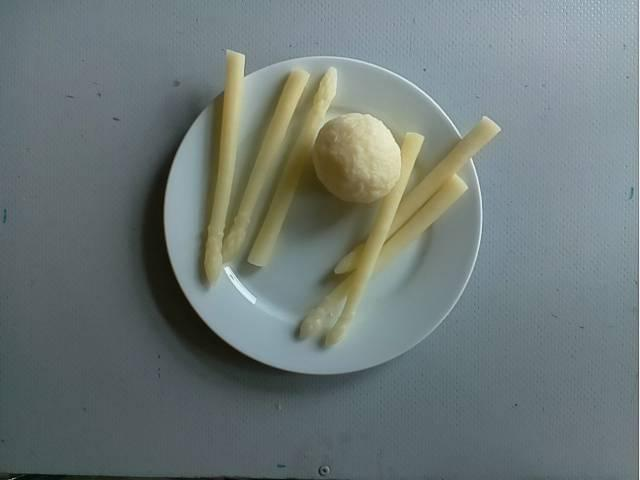Asparagus + dumpling: (202, 51, 495, 348)
